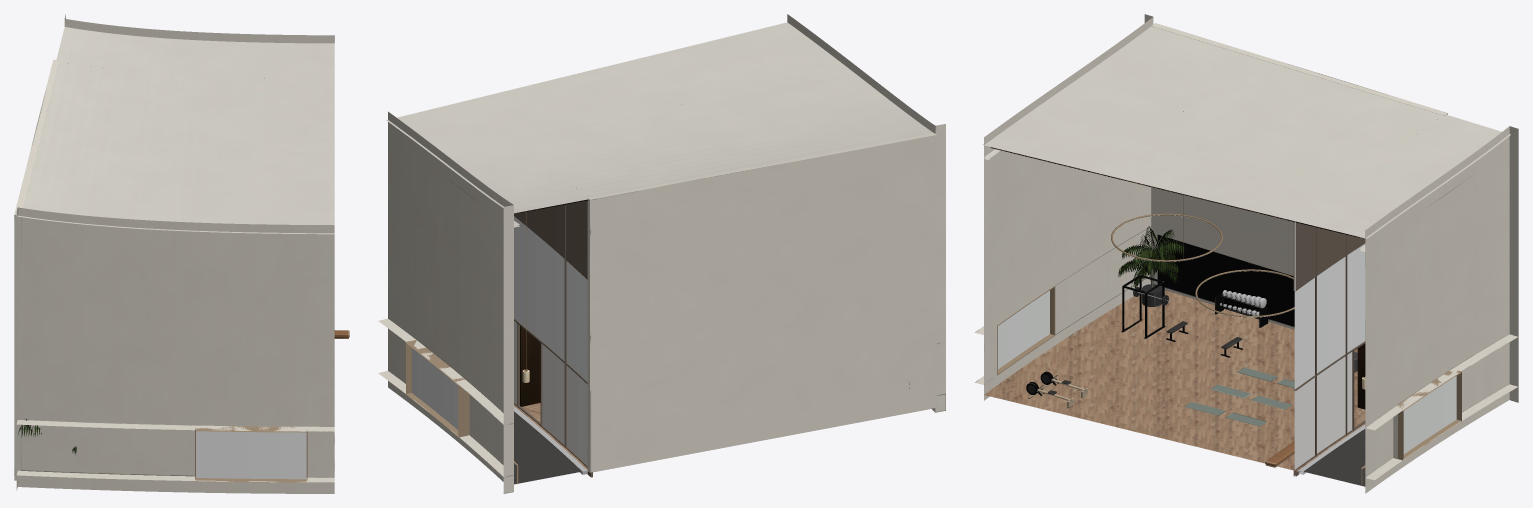
The picture shows the model from 3 angles, left to right: view 1: azimuth 30°, elevation 25°; view 2: azimuth 150°, elevation 25°; view 3: azimuth 270°, elevation 25°; orthographic projection. The views are drawn at different scales.
Parts seen in each view (by area): view 1: c2100; view 2: c2100, c2100 leaves; view 3: c2100, c2100 leaves.
Boxes of the visible parts, x1,y1,x2,y2 form: c2100: (14,14,349,493); c2100: (378,14,945,493); c2100 leaves: (520,199,909,406); c2100: (975,14,1518,493); c2100 leaves: (990,147,1365,409).
Size of the model in its own units: 22.39 by 13.73 by 24.71.
Materials: 13 (1 with a texture image).
